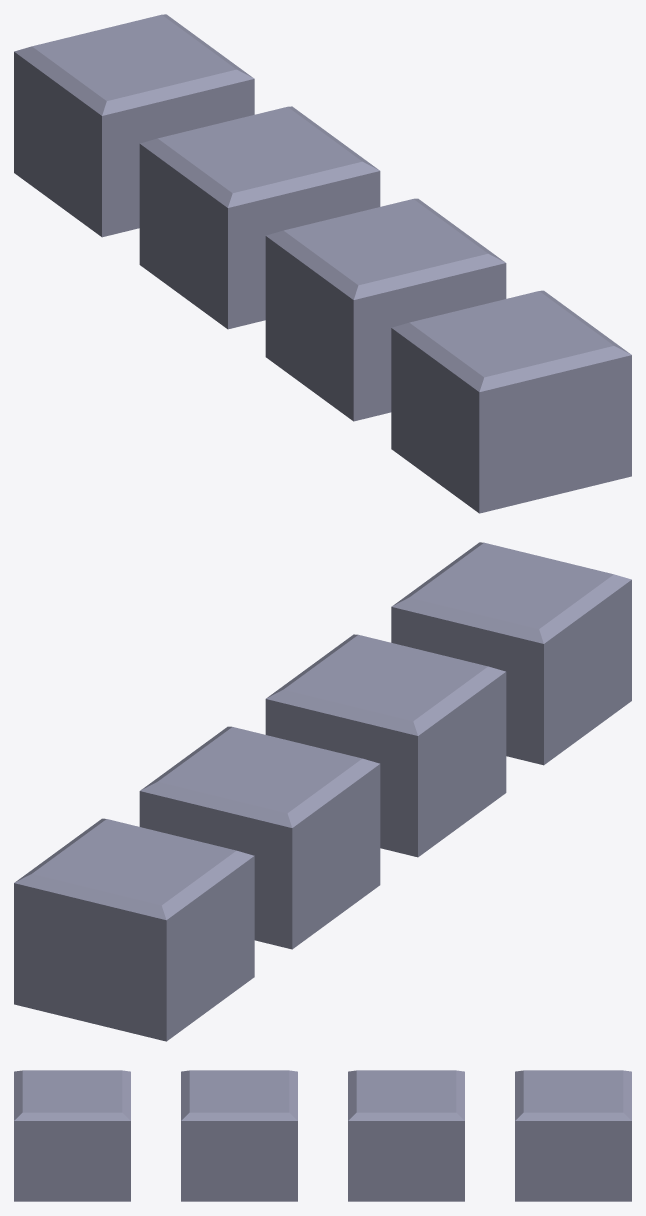
Rendered from box-row.fbx.
3 renders of one model, top to bottom at view 1: azimuth 30°, elevation 25°; view 2: azimuth 150°, elevation 25°; view 3: azimuth 270°, elevation 25°, orthographic. The views are drawn at different scales.
Parts seen in each view (by area): view 1: 4x4.001; view 2: 4x4.001; view 3: 4x4.001.
Boxes of the visible parts, x1,y1,x2,y2 form: 4x4.001: (14, 14, 631, 513); 4x4.001: (14, 542, 631, 1041); 4x4.001: (14, 1070, 631, 1201).
Size of the model in its own units: 51.08 by 41.16 by 270.
